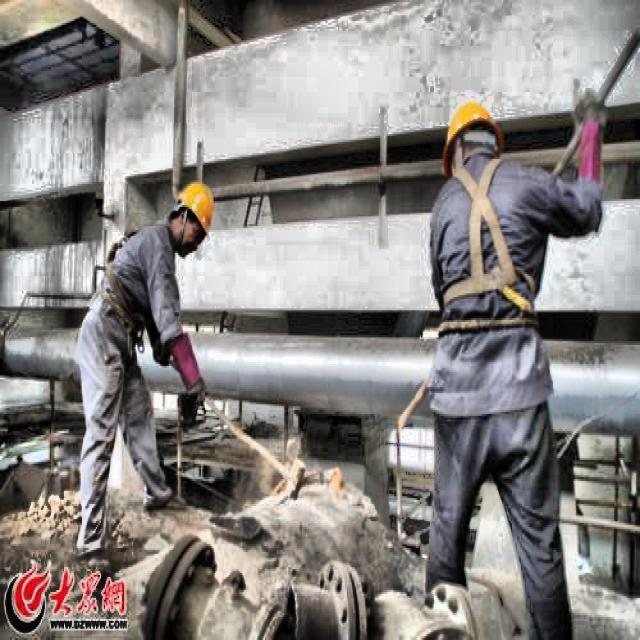helmet: (439, 98, 502, 195), (168, 174, 219, 253)
